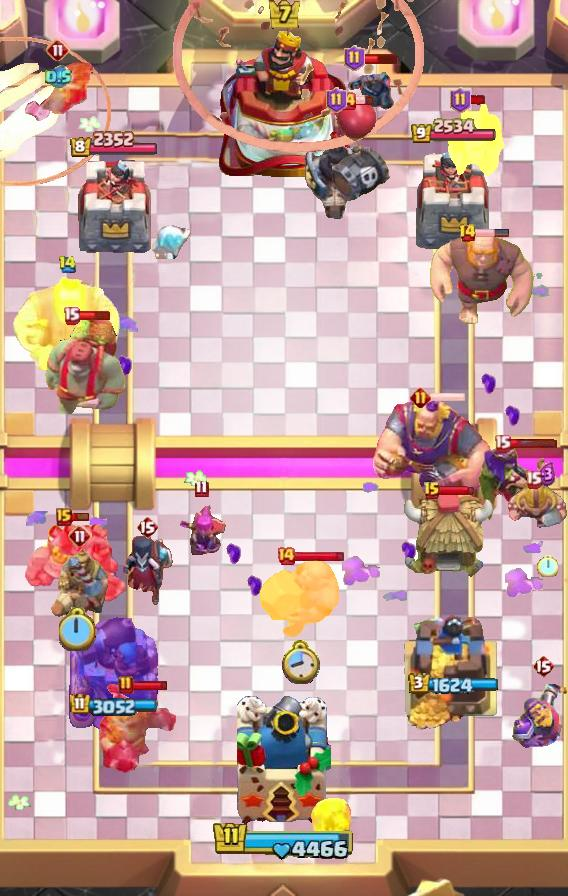archer-queen: (256, 556, 342, 640)
balloon: (430, 232, 536, 328)
barbarian-hut: (476, 440, 554, 526)
bat: (148, 224, 194, 259)
battle-ram: (346, 63, 396, 117)
cannoneer-tower: (25, 520, 131, 604)
clock: (212, 820, 356, 862)
electro-spirit: (45, 65, 72, 89), (538, 462, 556, 487)
elixir: (280, 638, 320, 684), (59, 607, 97, 651), (538, 554, 559, 577)
elixir-golem-small: (445, 103, 505, 181)
emote: (294, 550, 345, 563), (508, 439, 558, 450), (361, 51, 398, 64), (429, 391, 466, 403), (132, 680, 169, 692), (439, 485, 475, 497), (77, 311, 111, 322), (474, 228, 510, 238), (468, 94, 487, 106), (354, 94, 374, 105), (70, 511, 90, 522)
evolution-symbol: (176, 503, 226, 559)
firecracker-evolution: (509, 682, 567, 749)
giant-skeleton: (12, 276, 122, 370)
goblin-giant: (506, 481, 568, 529)
hog-rider: (22, 59, 94, 127)
ice-wizard: (1, 37, 112, 187)
inferno-dragon: (303, 102, 369, 222)
king-tower: (218, 27, 350, 181), (237, 696, 331, 826)
lava-hound: (42, 312, 128, 424)
lightning: (374, 398, 495, 504)
prince: (400, 490, 494, 580)
queen-tower: (403, 613, 506, 731), (410, 144, 496, 255), (73, 160, 154, 257)
ram-rider: (49, 549, 111, 627)
rascal-boy: (120, 533, 174, 607)
royal-guardian: (98, 683, 178, 775)
royal-recruit-evolution: (326, 97, 392, 201)
selected: (69, 131, 159, 159), (411, 118, 498, 145), (409, 672, 500, 696), (70, 692, 158, 715)
skeleton-barrel: (172, 0, 436, 154)
text: (46, 38, 70, 62), (68, 524, 92, 548), (343, 45, 364, 71), (449, 87, 470, 113), (325, 87, 346, 113), (136, 515, 158, 539), (532, 654, 554, 678), (410, 387, 431, 408), (337, 91, 357, 111), (276, 546, 296, 566), (459, 223, 478, 243), (423, 481, 441, 501), (58, 255, 77, 273), (493, 435, 511, 454), (525, 470, 543, 489), (64, 307, 81, 326), (118, 675, 134, 695), (56, 508, 72, 526), (195, 479, 209, 497)
tower-bar: (68, 611, 160, 731)
valkyrie: (309, 792, 355, 850)
